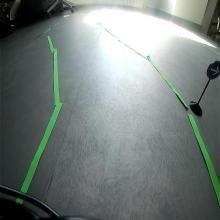right: (205, 59, 220, 79)
